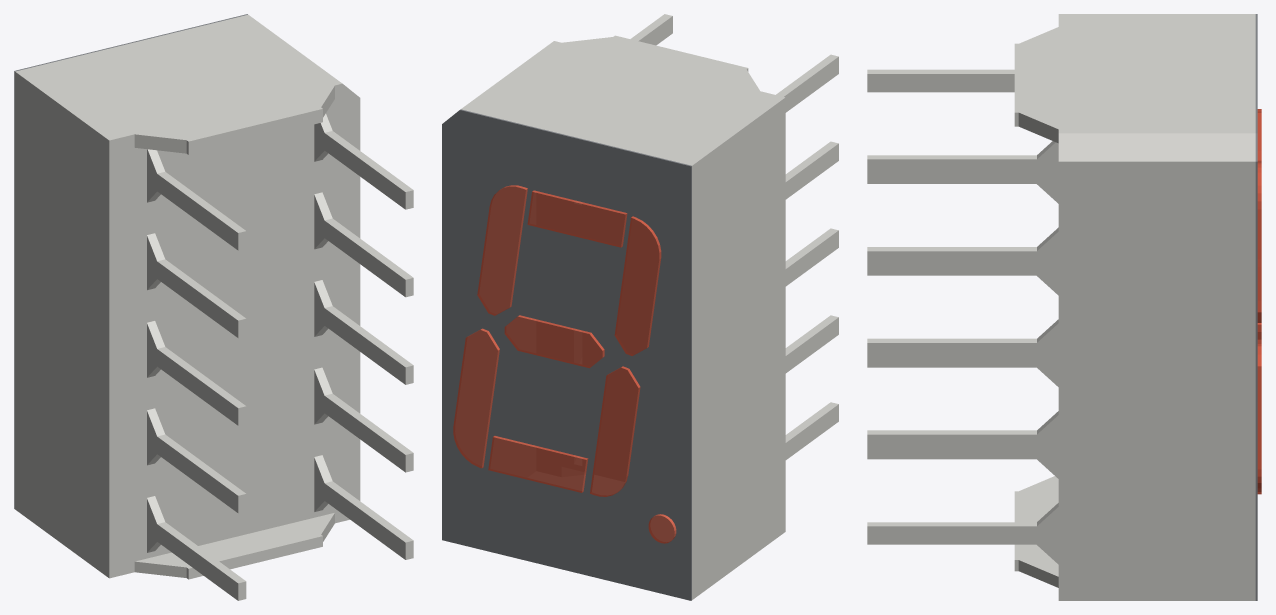
Rendered from HDSP-A151.glb.
The picture shows the model from 3 angles, left to right: view 1: azimuth 30°, elevation 25°; view 2: azimuth 150°, elevation 25°; view 3: azimuth 270°, elevation 25°; orthographic projection. The views are drawn at different scales.
Parts seen in each view (by area): view 1: Shape_IndexedFaceSet.010, Shape_IndexedFaceSet.100, Shape_IndexedFaceSet.143, Shape_IndexedFaceSet.016, Shape_IndexedFaceSet.015, Shape_IndexedFaceSet.017, Shape_IndexedFaceSet.090, Shape_IndexedFaceSet.113, Shape_IndexedFaceSet.141, Shape_IndexedFaceSet.109, Shape_IndexedFaceSet.117, Shape_IndexedFaceSet.131 (+18 smaller); view 2: Shape_IndexedFaceSet.164, Shape_IndexedFaceSet.100, Shape_IndexedFaceSet.143, Shape_IndexedFaceSet.214, Shape_IndexedFaceSet.218, Shape_IndexedFaceSet.212, Shape_IndexedFaceSet.219, Shape_IndexedFaceSet.216, Shape_IndexedFaceSet.215, Shape_IndexedFaceSet.217, Shape_IndexedFaceSet.131, Shape_IndexedFaceSet.109 (+4 smaller); view 3: Shape_IndexedFaceSet.097, Shape_IndexedFaceSet.143, Shape_IndexedFaceSet.098, Shape_IndexedFaceSet.127, Shape_IndexedFaceSet.001, Shape_IndexedFaceSet.122, Shape_IndexedFaceSet.125, Shape_IndexedFaceSet.136, Shape_IndexedFaceSet.133, Shape_IndexedFaceSet.017, Shape_IndexedFaceSet.145, Shape_IndexedFaceSet.139 (+15 smaller).
Boxes of the visible parts, left/top/right/bottom form: Shape_IndexedFaceSet.010: left=134, top=99, right=334, bottom=561; Shape_IndexedFaceSet.100: left=15, top=72, right=109, bottom=577; Shape_IndexedFaceSet.143: left=15, top=14, right=341, bottom=141; Shape_IndexedFaceSet.016: left=109, top=148, right=134, bottom=567; Shape_IndexedFaceSet.015: left=335, top=94, right=360, bottom=512; Shape_IndexedFaceSet.017: left=135, top=513, right=334, bottom=568; Shape_IndexedFaceSet.090: left=188, top=109, right=322, bottom=154; Shape_IndexedFaceSet.113: left=157, top=349, right=238, bottom=425; Shape_IndexedFaceSet.141: left=157, top=524, right=238, bottom=600; Shape_IndexedFaceSet.109: left=157, top=437, right=238, bottom=512; Shape_IndexedFaceSet.117: left=157, top=262, right=238, bottom=337; Shape_IndexedFaceSet.131: left=157, top=174, right=238, bottom=250; Shape_IndexedFaceSet.164: left=442, top=110, right=691, bottom=600; Shape_IndexedFaceSet.100: left=692, top=97, right=785, bottom=599; Shape_IndexedFaceSet.143: left=461, top=35, right=784, bottom=165; Shape_IndexedFaceSet.214: left=614, top=217, right=659, bottom=355; Shape_IndexedFaceSet.218: left=477, top=186, right=525, bottom=315; Shape_IndexedFaceSet.212: left=590, top=367, right=638, bottom=496; Shape_IndexedFaceSet.219: left=453, top=330, right=497, bottom=468; Shape_IndexedFaceSet.216: left=488, top=437, right=586, bottom=492; Shape_IndexedFaceSet.215: left=527, top=192, right=625, bottom=247; Shape_IndexedFaceSet.217: left=504, top=316, right=602, bottom=368; Shape_IndexedFaceSet.131: left=784, top=57, right=838, bottom=112; Shape_IndexedFaceSet.109: left=785, top=317, right=838, bottom=373; Shape_IndexedFaceSet.097: left=1058, top=161, right=1255, bottom=600; Shape_IndexedFaceSet.143: left=1014, top=14, right=1255, bottom=133; Shape_IndexedFaceSet.098: left=1058, top=133, right=1255, bottom=161; Shape_IndexedFaceSet.127: left=867, top=434, right=1036, bottom=452; Shape_IndexedFaceSet.001: left=867, top=159, right=1036, bottom=177; Shape_IndexedFaceSet.122: left=867, top=251, right=1036, bottom=269; Shape_IndexedFaceSet.125: left=867, top=343, right=1036, bottom=361; Shape_IndexedFaceSet.136: left=867, top=526, right=1036, bottom=544; Shape_IndexedFaceSet.133: left=867, top=74, right=1014, bottom=92; Shape_IndexedFaceSet.017: left=1014, top=476, right=1058, bottom=576; Shape_IndexedFaceSet.145: left=1255, top=161, right=1257, bottom=600; Shape_IndexedFaceSet.139: left=867, top=453, right=1036, bottom=459.
Size of the model in its own units: 3 by 5 by 3.9.
